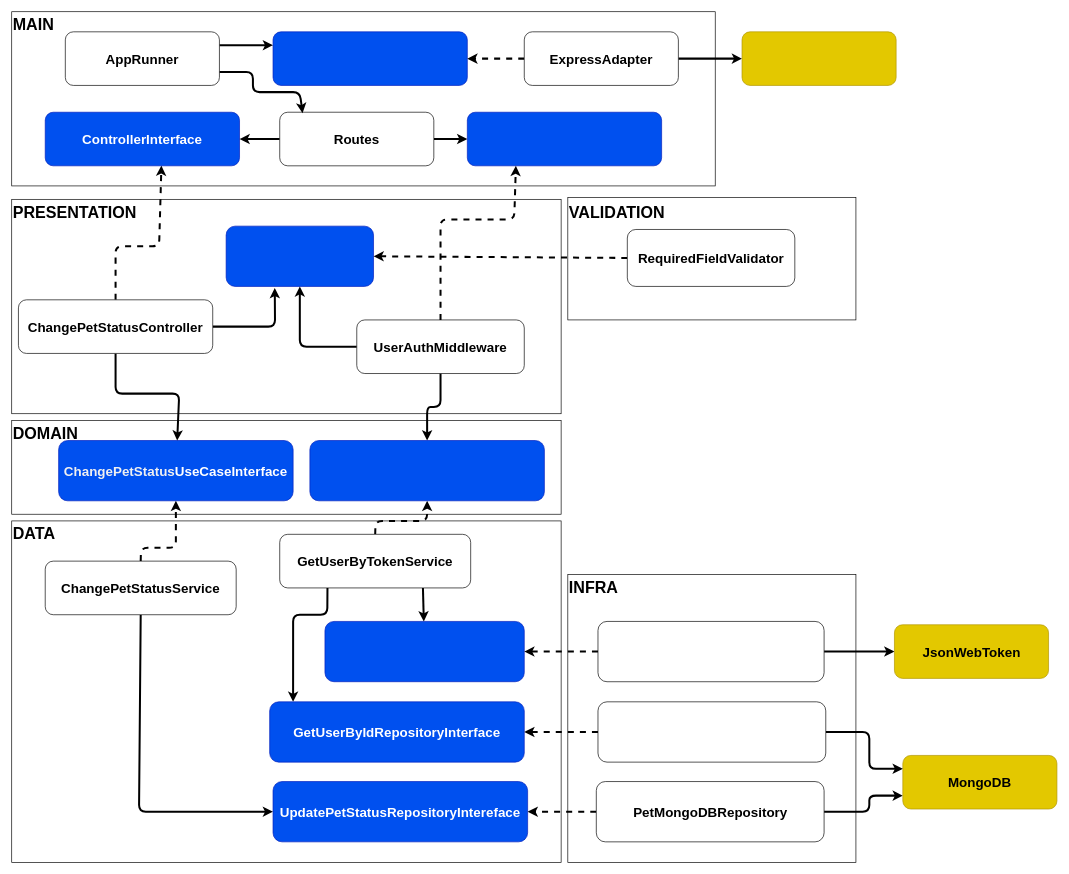
This 1069x874 diagram has some shape labels left out. Here are the shapes that lost their labels. From the top down, the centre of each, then its label:
At pixel 369 58: "RunnerFrameworkInterface".
At pixel 818 58: "Express".
At pixel 564 139: "MiddlewareInterface".
At pixel 299 255: "ValidatorInterface".
At pixel 426 470: "GetUserByToken UseCaseInterface".
At pixel 424 651: "TokenDecrypterInterface".
At pixel 710 651: "JwtAdapter".
At pixel 711 731: "UserMongoDBRepository".
